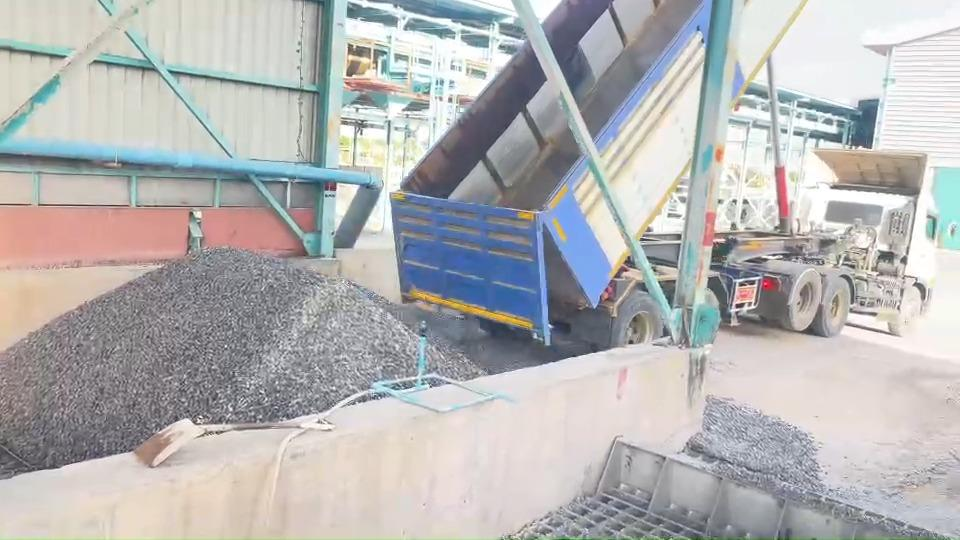gravel: (0, 248, 418, 467), (688, 396, 824, 492), (429, 339, 484, 379)
